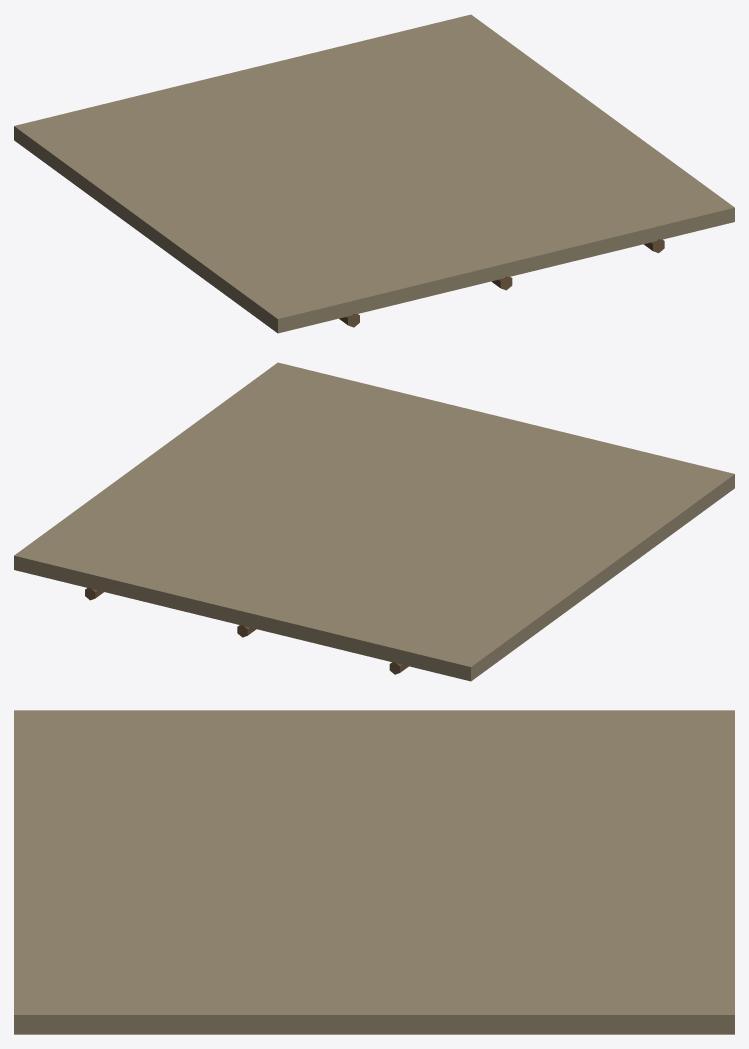
The model's file is roof_panel.glb.
The picture shows the model from 3 angles, top to bottom: view 1: azimuth 30°, elevation 25°; view 2: azimuth 150°, elevation 25°; view 3: azimuth 270°, elevation 25°; orthographic projection. The views are drawn at different scales.
Parts seen in each view (by area): view 1: roof_panel; view 2: roof_panel; view 3: roof_panel.
Part boxes in pixels (bbox=[...]): roof_panel: bbox=[14, 14, 734, 333]; roof_panel: bbox=[14, 362, 734, 681]; roof_panel: bbox=[14, 710, 734, 1034].
Size of the model in its own units: 6 by 0.34 by 6.
